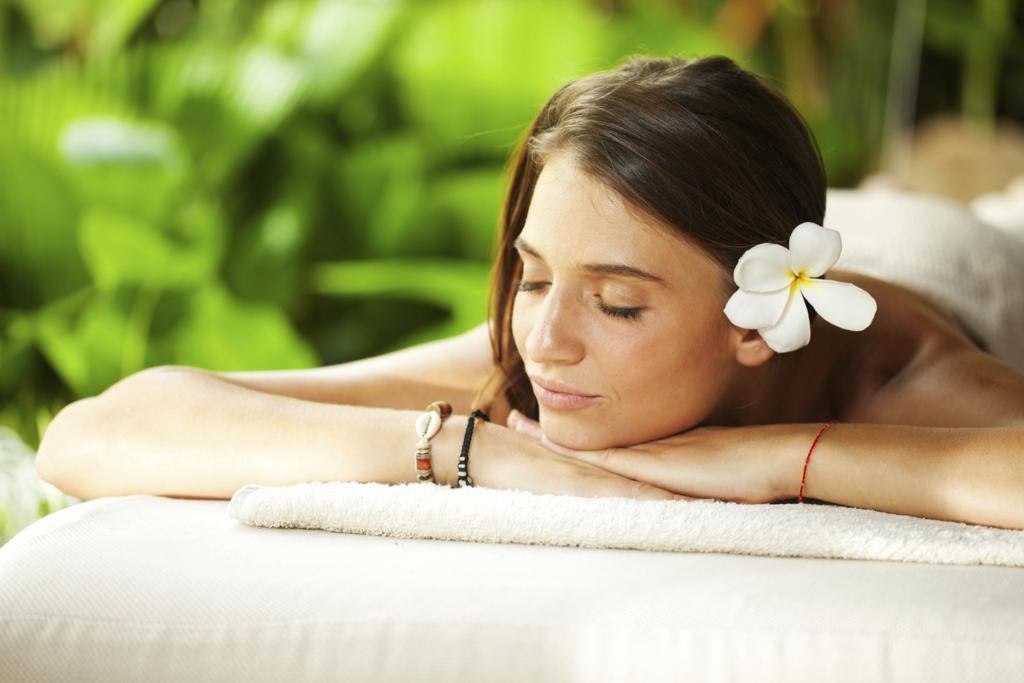face: (511, 205, 699, 453)
